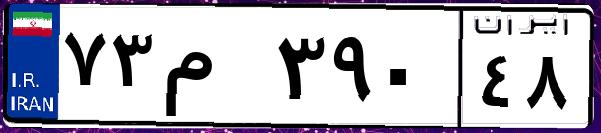0: (385, 28, 445, 110)
3: (270, 28, 330, 110), (110, 28, 158, 98)
4: (475, 38, 525, 113)
7: (57, 26, 110, 100)
8: (525, 38, 570, 115)
9: (330, 28, 385, 110)
م: (158, 20, 270, 120)
